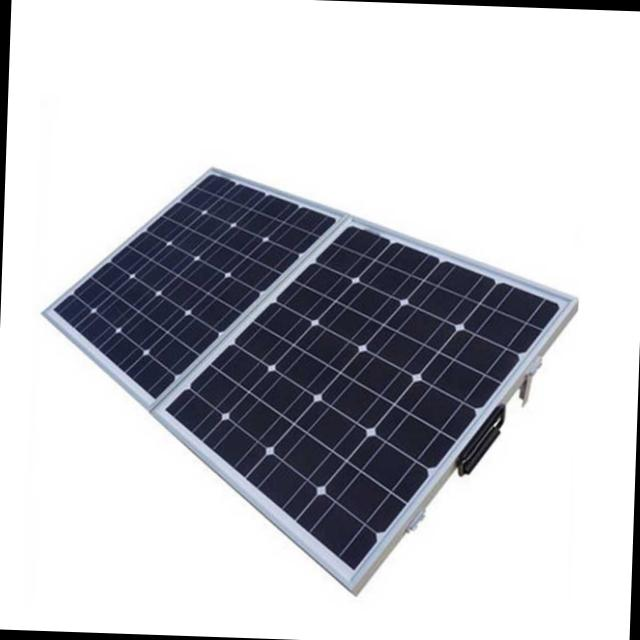no faulty: (50, 175, 553, 577)
